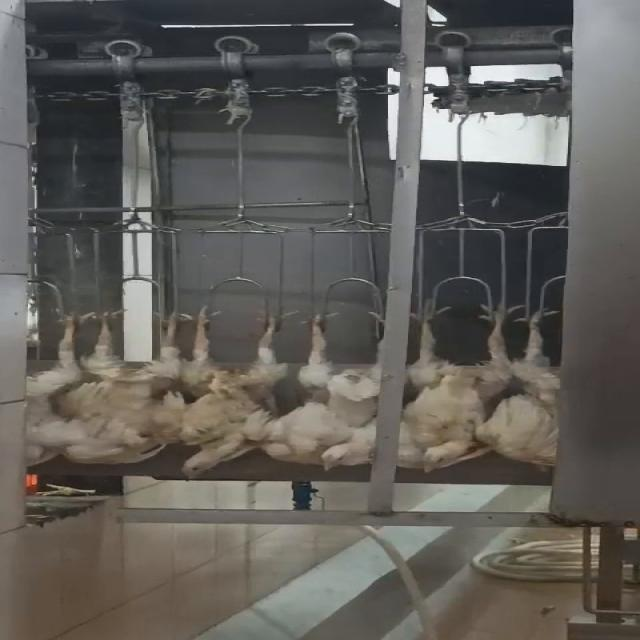chicken: (162, 307, 285, 482), (395, 302, 517, 474), (62, 308, 184, 472), (268, 310, 389, 474), (501, 286, 563, 478), (14, 312, 80, 469)
